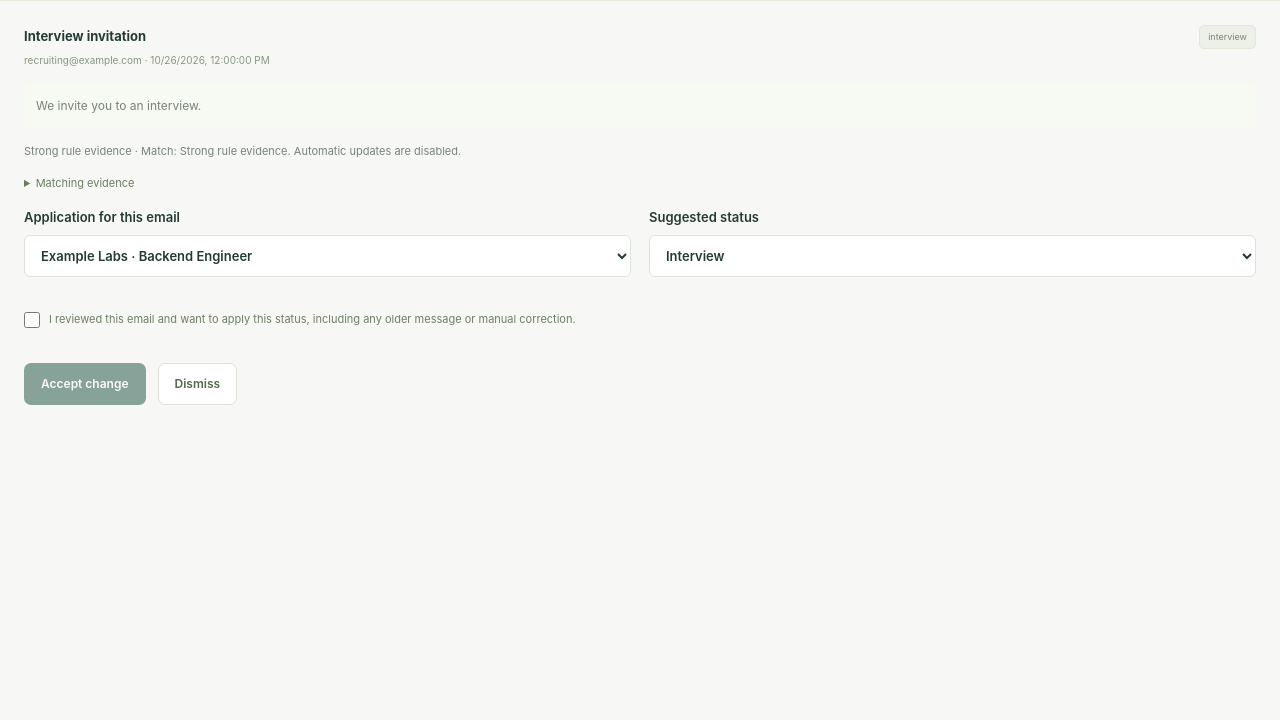
shows stale-revision failures and clears approval acknowledgment
Click the checkbox.
click(32, 320)  # box x1=24 y1=312 x2=40 y2=328
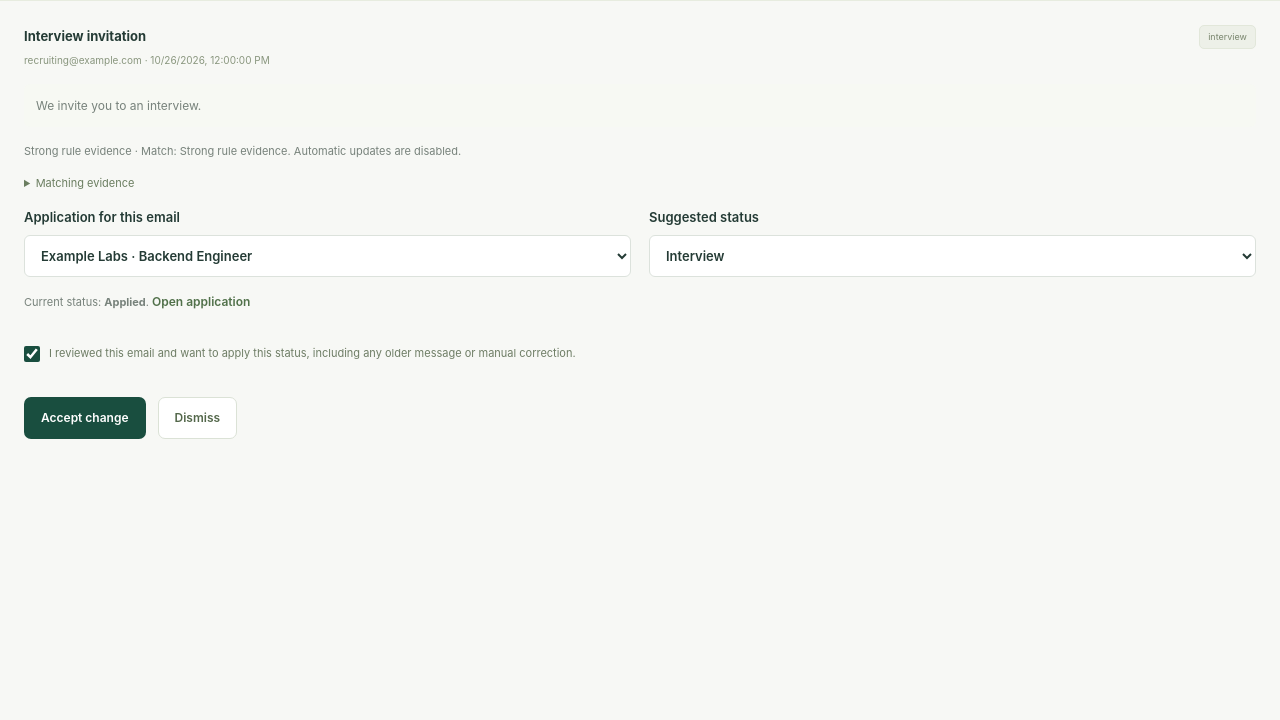
Click the button "Accept change".
click(85, 418)  # box x1=24 y1=397 x2=146 y2=439
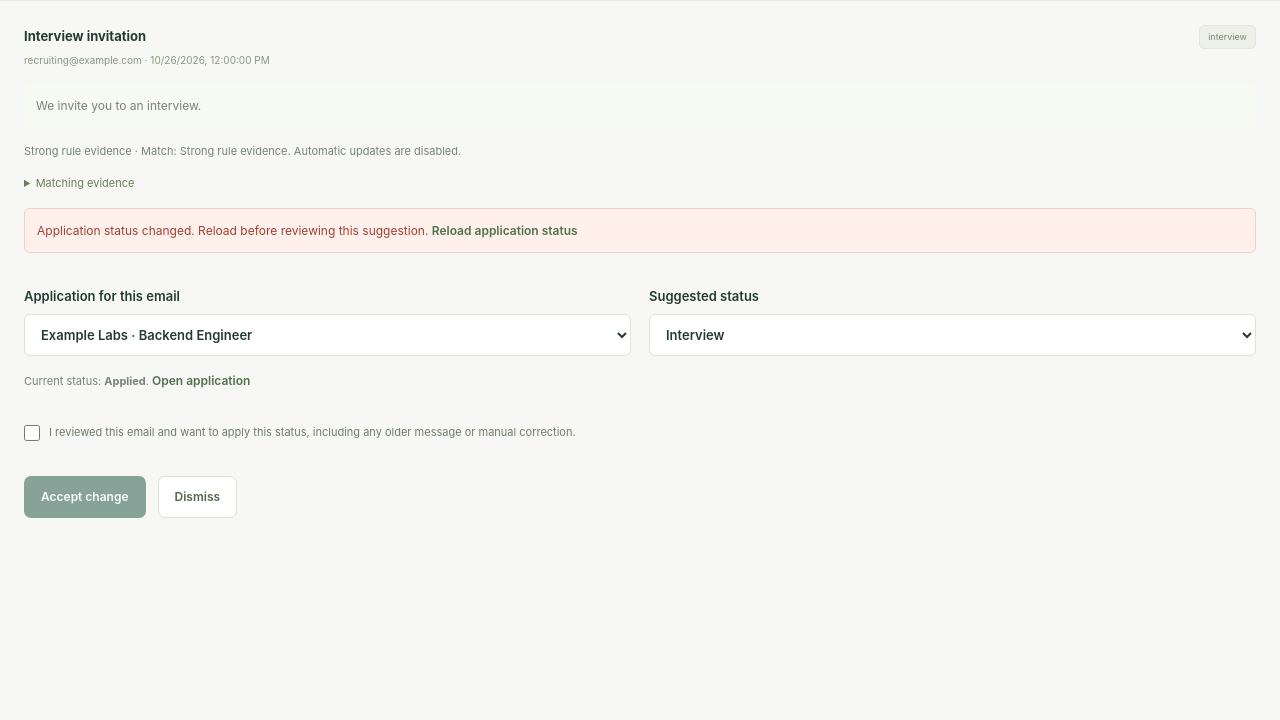
Result: the checkbox is not checked at x1=24 y1=425 x2=40 y2=441
Result: the message shows "Application status changed" at x1=37 y1=223 x2=428 y2=238
